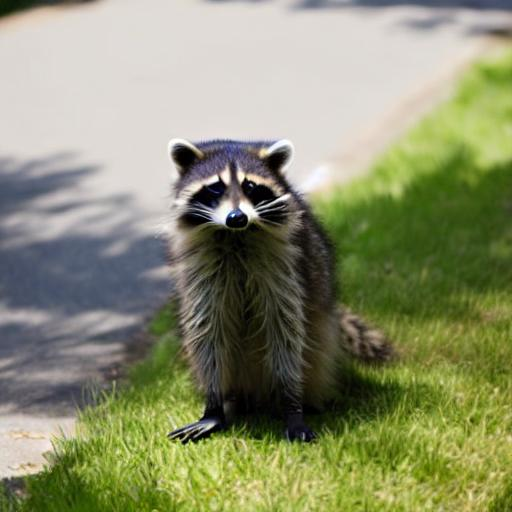raccoon: (157, 128, 399, 418)
